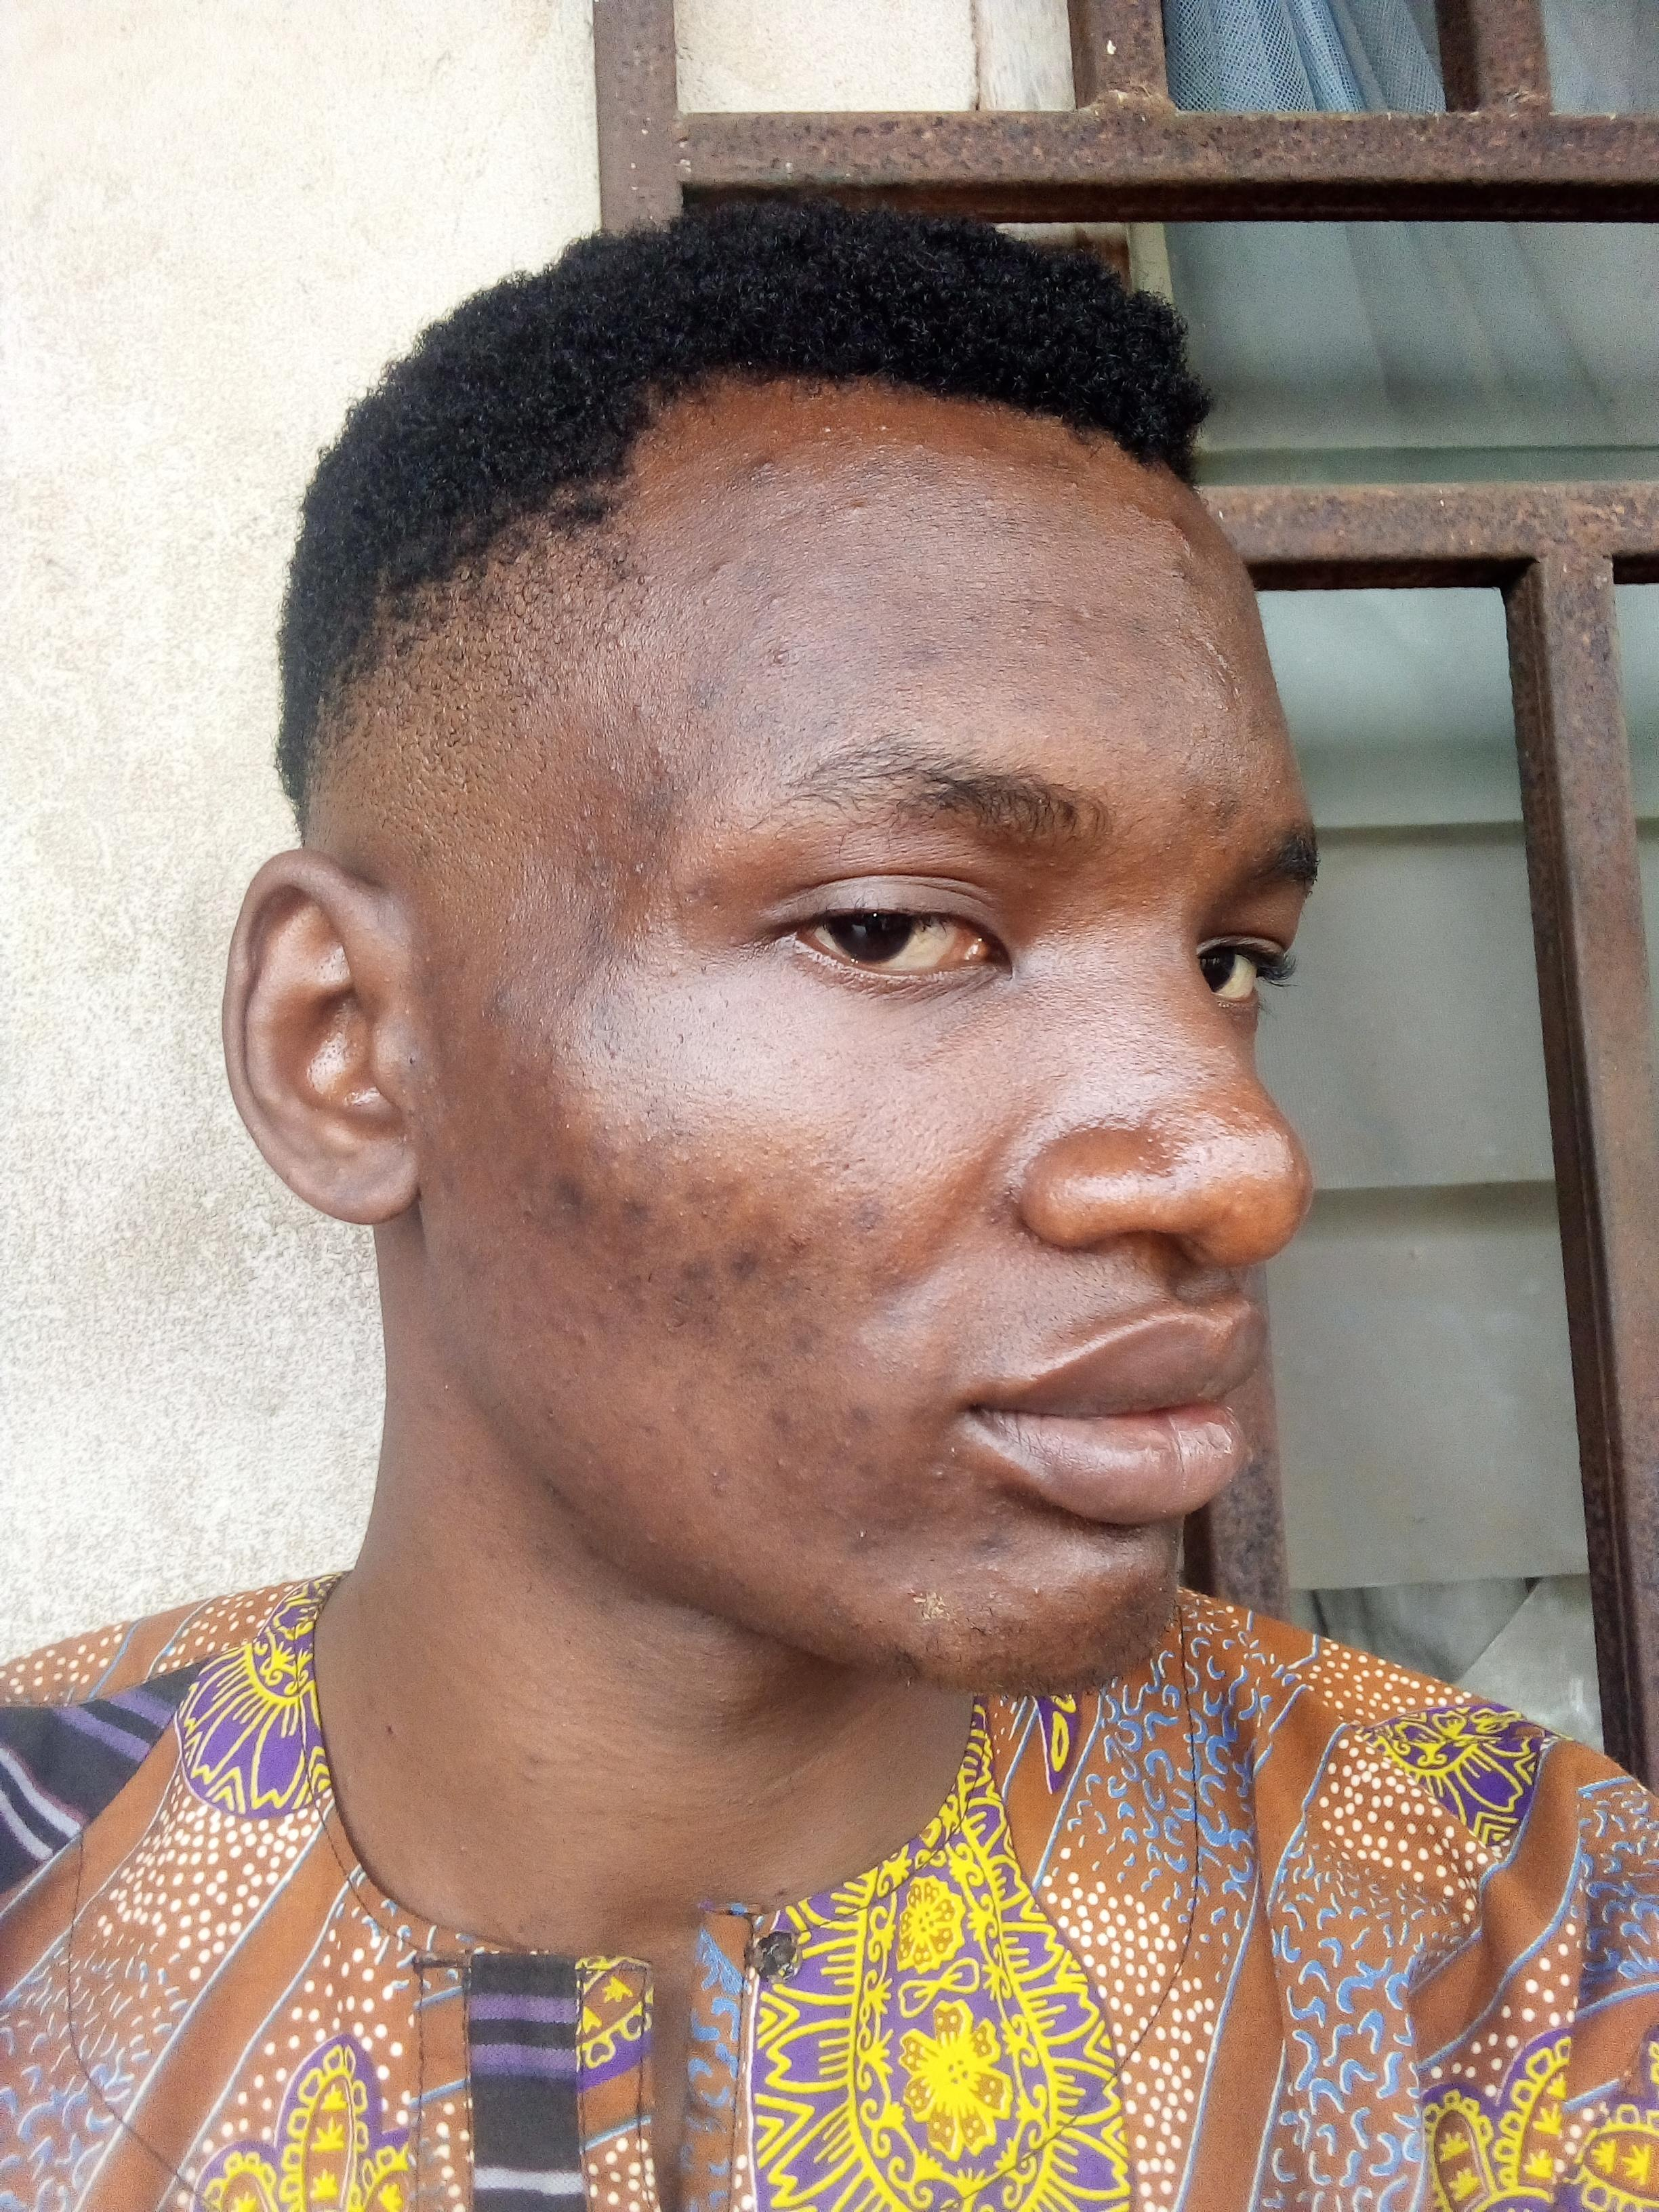Acne: (610, 728, 732, 813), (657, 1226, 807, 1289), (1126, 493, 1204, 592), (540, 1169, 662, 1231), (1183, 618, 1256, 719), (566, 1244, 660, 1312), (617, 1083, 692, 1158), (657, 1287, 751, 1345), (565, 977, 638, 1050), (674, 1165, 756, 1223), (884, 1573, 965, 1629), (948, 1510, 1028, 1562), (469, 979, 528, 1049), (1183, 777, 1248, 834), (525, 1021, 568, 1099), (884, 636, 950, 685), (782, 1310, 836, 1369), (816, 1393, 884, 1440), (981, 1165, 1023, 1238), (680, 1447, 735, 1501), (817, 1510, 878, 1559), (660, 1360, 711, 1418), (836, 1190, 890, 1242), (737, 446, 802, 489), (667, 669, 723, 718), (1249, 735, 1288, 803), (725, 557, 777, 606), (748, 1395, 793, 1442), (587, 913, 629, 963), (544, 1395, 580, 1442), (1039, 606, 1098, 631), (1122, 1573, 1164, 1606), (868, 413, 908, 442), (758, 644, 795, 672), (821, 413, 847, 439), (1063, 465, 1080, 493)
Englarged-Pores: (755, 1103, 938, 1186)
